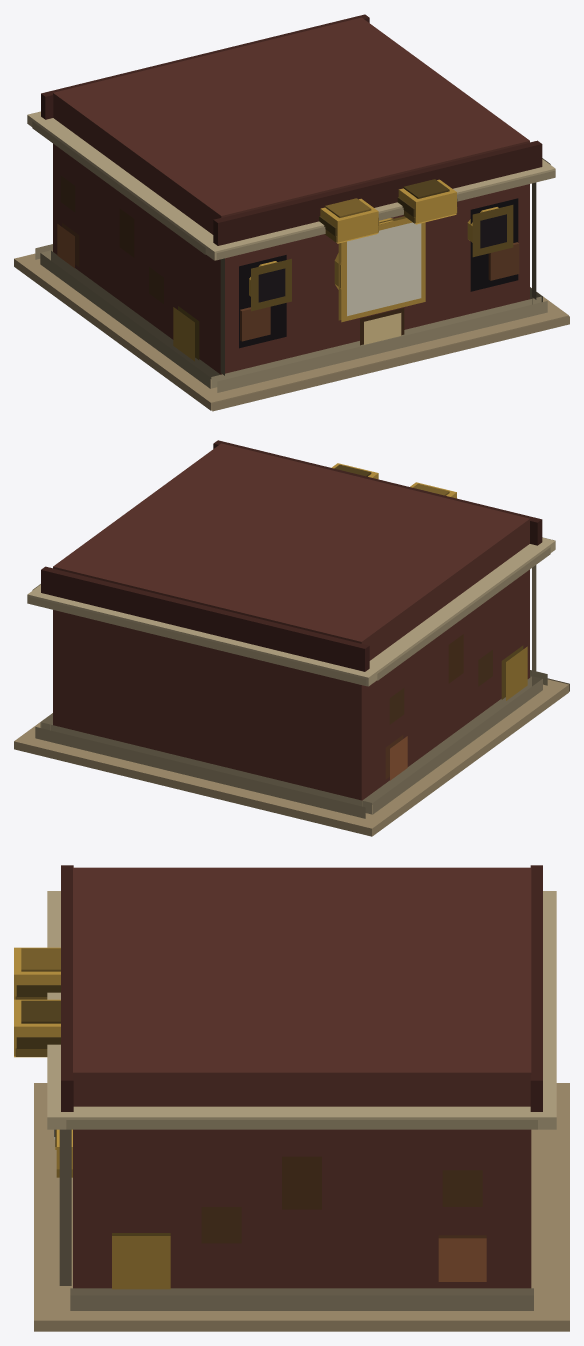
File: AngryAlarmClockSil.fbx
3 views of the same model, one above another, from view 1: azimuth 30°, elevation 25°; view 2: azimuth 150°, elevation 25°; view 3: azimuth 270°, elevation 25° (orthographic). The views are drawn at different scales.
Parts seen in each view (by area): view 1: AL_S_All; view 2: AL_S_All; view 3: AL_S_All.
Boxes of the visible parts, x1,y1,x2,y2 form: AL_S_All: [14, 14, 569, 411]; AL_S_All: [14, 440, 569, 836]; AL_S_All: [14, 865, 569, 1331].
Bounding box in the file's own units: 42.04 × 20 × 41.54.
